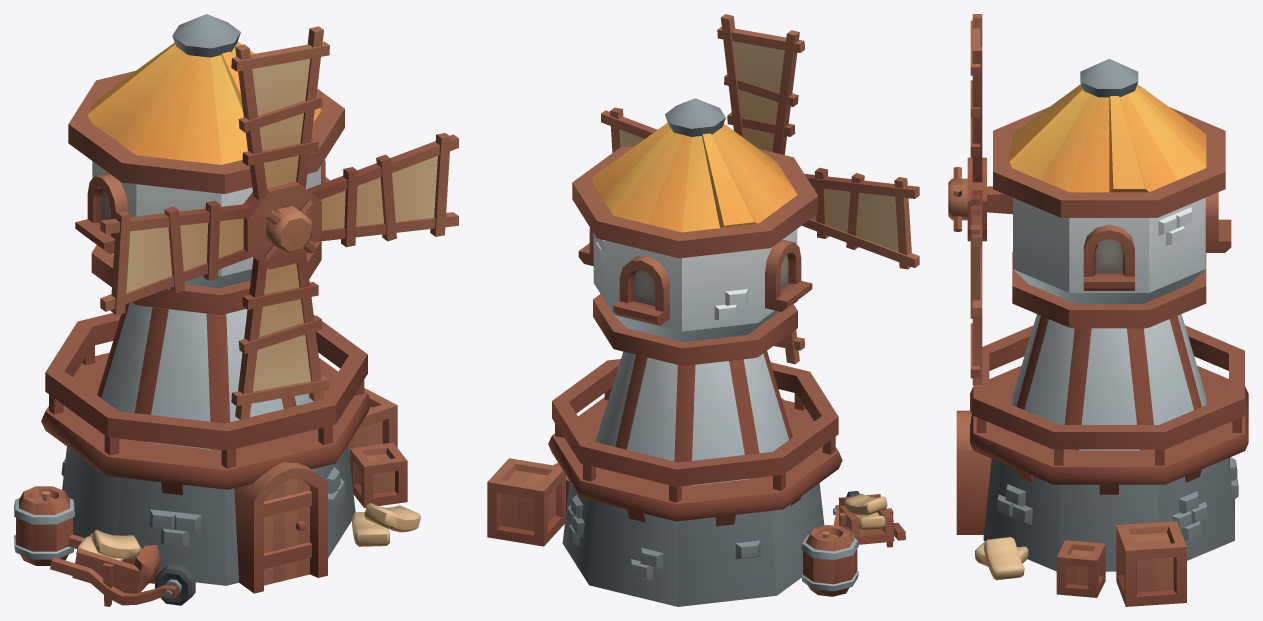
File: building_windmill_yellow.gltf
3 renders of one model, left to right at view 1: azimuth 30°, elevation 25°; view 2: azimuth 150°, elevation 25°; view 3: azimuth 270°, elevation 25°, orthographic. The views are drawn at different scales.
Visible parts, largest first — view 1: building_windmill_yellow, building_windmill_top_fan_yellow, building_windmill_top_yellow; view 2: building_windmill_yellow, building_windmill_top_yellow, building_windmill_top_fan_yellow; view 3: building_windmill_yellow, building_windmill_top_yellow, building_windmill_top_fan_yellow.
Part boxes in pixels (x1,y1,x2,y2): building_windmill_yellow: (14,302,420,606); building_windmill_top_fan_yellow: (100,26,458,419); building_windmill_top_yellow: (68,14,344,314); building_windmill_yellow: (487,351,905,606); building_windmill_top_yellow: (572,98,818,365); building_windmill_top_fan_yellow: (601,14,919,364); building_windmill_yellow: (956,314,1248,606); building_windmill_top_yellow: (987,58,1231,328); building_windmill_top_fan_yellow: (948,14,986,384).
Size of the model in its own units: 1.13 by 1.46 by 0.8165.
Materials: 1 (1 with a texture image).
